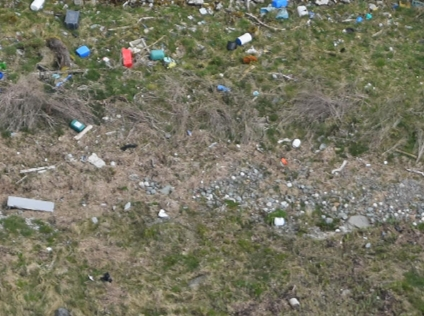scattered_barrel: (63, 114, 145, 174)
straight_bar: (4, 183, 63, 224), (15, 152, 61, 184)
together_barrel: (18, 1, 378, 98)
white_in_green: (253, 196, 304, 245), (137, 187, 188, 236), (274, 118, 320, 161), (273, 285, 318, 316)
